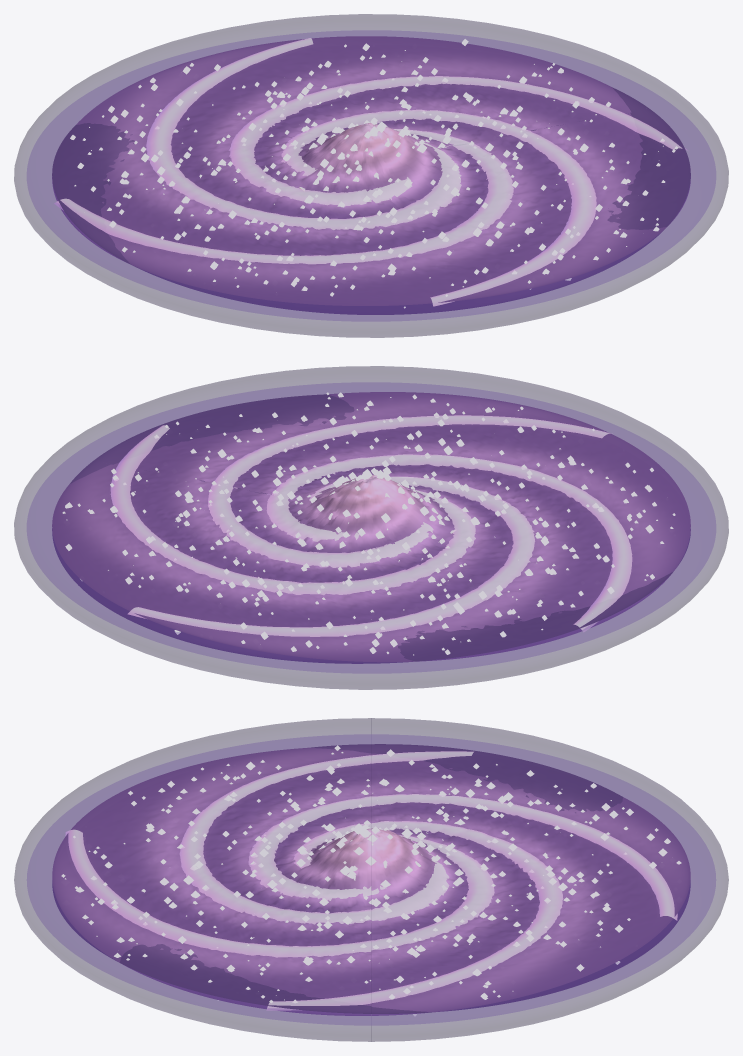
The model's file is milky-way.glb.
3 renders of one model, top to bottom at view 1: azimuth 30°, elevation 25°; view 2: azimuth 150°, elevation 25°; view 3: azimuth 270°, elevation 25°, orthographic.
Parts seen in each view (by area): view 1: Halo, Disk, OuterGlow, Stars, Arm_3, Arm_0, Arm_1, Arm_2; view 2: Halo, Disk, OuterGlow, Stars, Arm_1, Arm_2, Arm_0, Arm_3; view 3: Halo, Disk, OuterGlow, Stars, Arm_2, Arm_1, Arm_3, Arm_0.
Boxes of the visible parts, x1,y1,x2,y2 form: Halo: (14, 14, 728, 337); Disk: (52, 36, 690, 314); OuterGlow: (27, 31, 715, 320); Stars: (70, 39, 677, 308); Arm_3: (146, 38, 461, 229); Arm_0: (229, 76, 687, 206); Arm_1: (281, 109, 596, 306); Arm_2: (54, 129, 513, 264); Halo: (14, 366, 728, 689); Disk: (52, 392, 690, 663); OuterGlow: (27, 383, 715, 672); Stars: (62, 392, 675, 655); Arm_1: (208, 415, 612, 567); Arm_2: (266, 454, 632, 631); Arm_0: (110, 425, 475, 594); Arm_3: (128, 476, 534, 636); Halo: (14, 718, 728, 1041); Disk: (52, 744, 690, 1015); OuterGlow: (27, 734, 715, 1025); Stars: (61, 745, 681, 1016); Arm_2: (179, 751, 473, 924); Arm_1: (65, 829, 494, 957); Arm_3: (248, 794, 677, 920); Arm_0: (266, 821, 563, 1010).
Size of the model in its own units: 2.24 by 0.4032 by 2.24.
